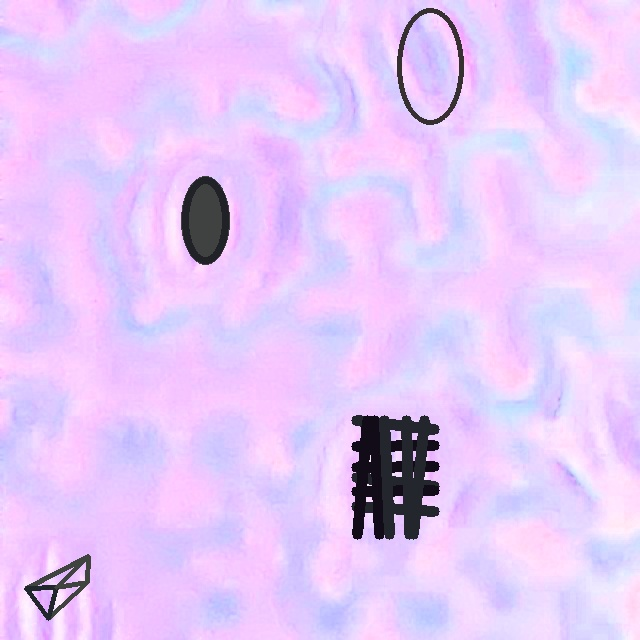open: (352, 416, 439, 538), (396, 7, 464, 126), (24, 554, 89, 620), (182, 176, 229, 264)
